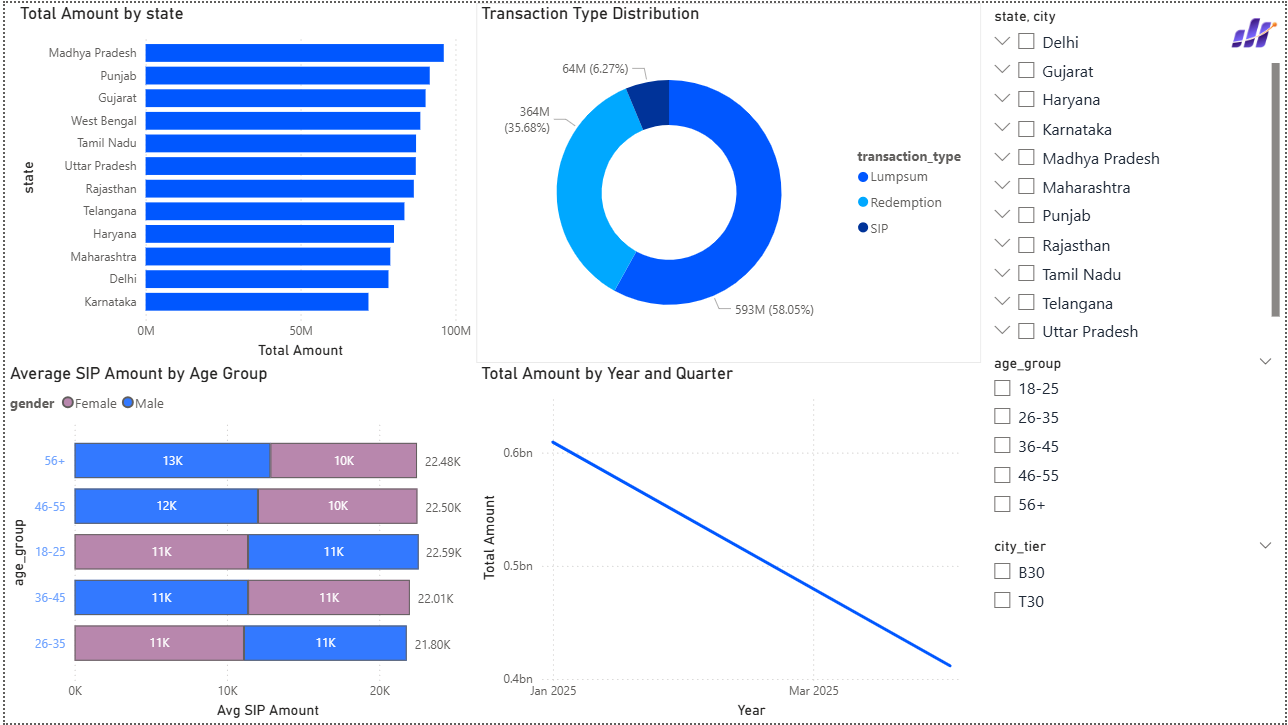

The page's visual inventory and layout, read from the dashboard file:
{"tool":"powerbi","page":{"name":"Investor Analysis","canvas":[1280,720],"ordinal":2},"visuals":[{"type":"barChart","fields":{"Category":["cleaned_investor_transactions.state"],"Y":["cleaned_investor_transactions.Total Amount"]},"box":[10,0,461.7,360],"z":0},{"type":"donutChart","title":"Transaction Type Distribution","fields":{"Category":["cleaned_investor_transactions.transaction_type"],"Y":["cleaned_investor_transactions.Total Amount"]},"box":[471.7,0,505,360],"z":1000},{"type":"barChart","title":"Average SIP Amount by Age Group","fields":{"Y":["cleaned_investor_transactions.Avg SIP Amount"],"Category":["cleaned_investor_transactions.age_group"],"Series":["cleaned_investor_transactions.gender"]},"box":[0,360,471.7,360],"z":2000},{"type":"lineChart","fields":{"Y":["cleaned_investor_transactions.Total Amount"],"Category":["cleaned_investor_transactions.transaction_date.Variation.Date Hierarchy.Year","cleaned_investor_transactions.transaction_date.Variation.Date Hierarchy.Quarter","cleaned_investor_transactions.transaction_date.Variation.Date Hierarchy.Month","cleaned_investor_transactions.transaction_date.Variation.Date Hierarchy.Day"]},"box":[471.7,360,505,360],"z":3000},{"type":"slicer","fields":{"Values":["cleaned_investor_transactions.state","cleaned_investor_transactions.city"]},"box":[976.7,0,303.3,346.7],"z":4000},{"type":"slicer","fields":{"Values":["cleaned_investor_transactions.age_group"]},"box":[976.7,346.7,303.3,183.3],"z":5000},{"type":"slicer","fields":{"Values":["cleaned_investor_transactions.city_tier"]},"box":[976.7,530,303.3,190],"z":6000},{"type":"image","box":[1217.1,0,62.9,60],"z":6001}]}

Visuals, with their boxes in screenshot pixels (x1, y1, x2, y2), scaled from the page's 1280x720 canvas onto the 1288x725 screenshot:
barChart - cleaned_investor_transactions.state x cleaned_investor_transactions.Total Amount: [x1=10, y1=0, x2=475, y2=362]
"Transaction Type Distribution" donutChart: [x1=475, y1=0, x2=983, y2=362]
"Average SIP Amount by Age Group" barChart: [x1=0, y1=362, x2=475, y2=724]
lineChart - cleaned_investor_transactions.Total Amount x cleaned_investor_transactions.transaction_date.Variation.Date Hierarchy.Year: [x1=475, y1=362, x2=983, y2=724]
slicer - cleaned_investor_transactions.state x cleaned_investor_transactions.city: [x1=983, y1=0, x2=1287, y2=349]
slicer - cleaned_investor_transactions.age_group: [x1=983, y1=349, x2=1287, y2=534]
slicer - cleaned_investor_transactions.city_tier: [x1=983, y1=534, x2=1287, y2=724]
image: [x1=1225, y1=0, x2=1287, y2=60]
